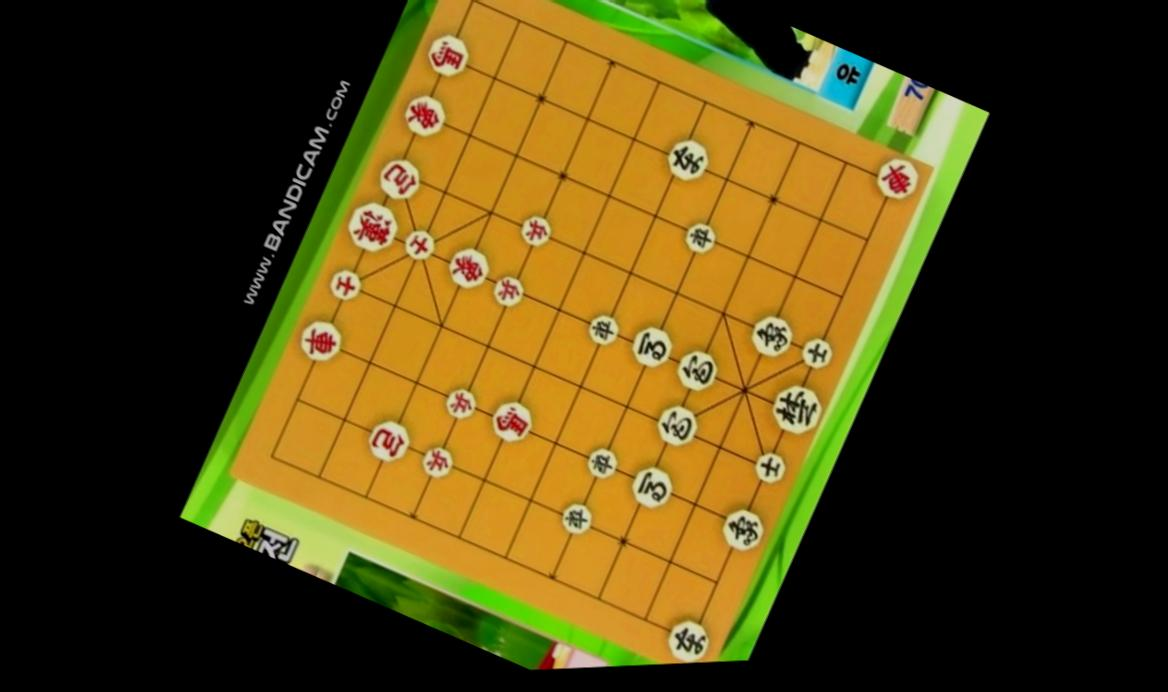cha_green: (660, 132, 713, 186), (662, 612, 717, 664)
cha_red: (869, 148, 924, 206), (294, 312, 348, 367)
jol_green: (556, 495, 596, 539), (583, 306, 623, 350), (681, 214, 721, 257), (582, 440, 620, 484)
jol_red: (489, 267, 529, 312), (418, 438, 457, 481), (441, 380, 480, 423), (515, 208, 554, 249)
ma_green: (621, 456, 680, 515), (626, 318, 678, 373)
ma_red: (421, 25, 478, 84), (486, 392, 538, 447)
po_green: (649, 395, 706, 454), (670, 341, 722, 396)
po_red: (372, 149, 426, 207), (362, 412, 415, 468)
sa_green: (750, 444, 790, 488), (797, 331, 836, 373)
sa_red: (325, 261, 366, 304), (400, 221, 439, 264)
sang_green: (715, 498, 770, 556), (745, 307, 799, 363)
sang_red: (396, 87, 451, 142), (442, 240, 494, 295)
wang_green: (763, 376, 827, 439)
wang_red: (341, 192, 405, 259)
